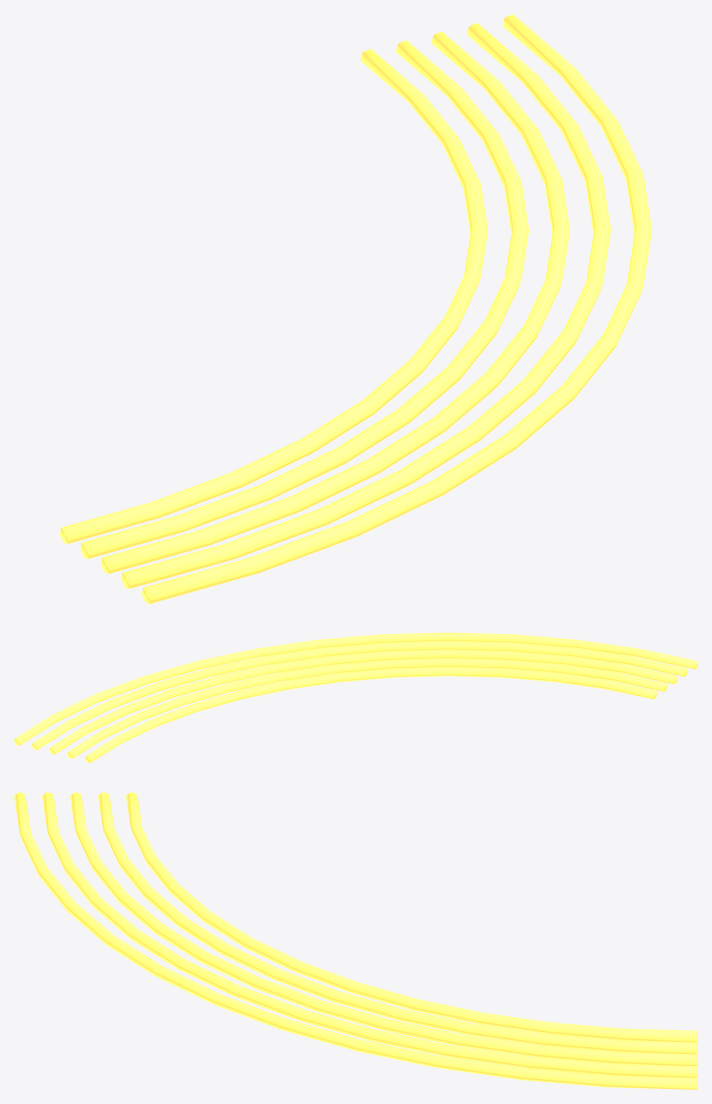
File: city_staff_curve.glb
The picture shows the model from 3 angles, top to bottom: view 1: azimuth 30°, elevation 25°; view 2: azimuth 150°, elevation 25°; view 3: azimuth 270°, elevation 25°; orthographic projection. The views are drawn at different scales.
Parts seen in each view (by area): view 1: CityStaffCurve_Line0_Halo, CityStaffCurve_Line1_Halo, CityStaffCurve_Line2_Halo, CityStaffCurve_Line3_Halo, CityStaffCurve_Line4_Halo; view 2: CityStaffCurve_Line0_Halo, CityStaffCurve_Line1_Halo, CityStaffCurve_Line2_Halo, CityStaffCurve_Line3_Halo, CityStaffCurve_Line4_Halo; view 3: CityStaffCurve_Line0_Halo, CityStaffCurve_Line1_Halo, CityStaffCurve_Line2_Halo, CityStaffCurve_Line3_Halo, CityStaffCurve_Line4_Halo.
Boxes of the visible parts, <box> form: CityStaffCurve_Line0_Halo: <box>142,14,651,603</box>; CityStaffCurve_Line1_Halo: <box>121,23,610,588</box>; CityStaffCurve_Line2_Halo: <box>101,31,569,573</box>; CityStaffCurve_Line3_Halo: <box>80,40,528,558</box>; CityStaffCurve_Line4_Halo: <box>60,49,487,543</box>; CityStaffCurve_Line0_Halo: <box>14,632,697,745</box>; CityStaffCurve_Line1_Halo: <box>32,641,687,750</box>; CityStaffCurve_Line2_Halo: <box>49,649,677,754</box>; CityStaffCurve_Line3_Halo: <box>67,658,667,758</box>; CityStaffCurve_Line4_Halo: <box>85,667,656,763</box>; CityStaffCurve_Line0_Halo: <box>14,792,697,1089</box>; CityStaffCurve_Line1_Halo: <box>42,792,697,1077</box>; CityStaffCurve_Line2_Halo: <box>70,792,697,1065</box>; CityStaffCurve_Line3_Halo: <box>98,792,697,1054</box>; CityStaffCurve_Line4_Halo: <box>126,792,697,1042</box>.
Size of the model in its own units: 4.4 by 0.0773 by 4.4.
